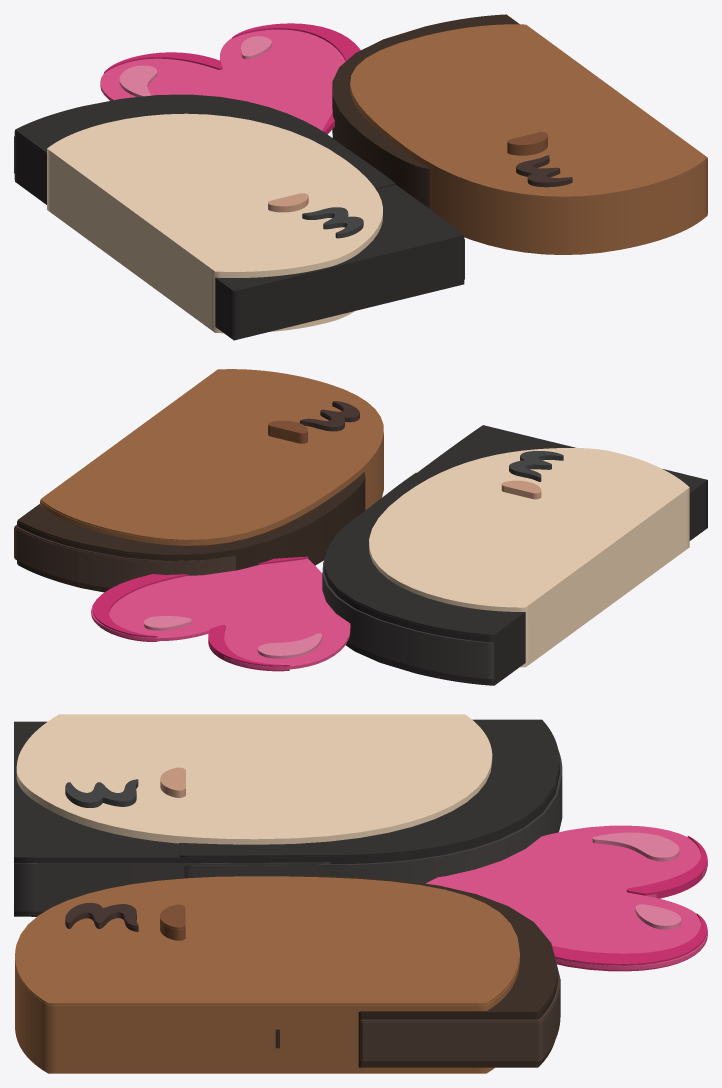
Rendered from emoji_u1f469_1f3fb_200d_2764_200d_1f48b_200d_1f468_1f3fe.glb.
The picture shows the model from 3 angles, top to bottom: view 1: azimuth 30°, elevation 25°; view 2: azimuth 150°, elevation 25°; view 3: azimuth 270°, elevation 25°; orthographic projection. The views are drawn at different scales.
Visible parts, largest first — view 1: emoji_u1f469_1f3fb_200d_2764_200d_1f48b_200d_1f468_1f3fe; view 2: emoji_u1f469_1f3fb_200d_2764_200d_1f48b_200d_1f468_1f3fe; view 3: emoji_u1f469_1f3fb_200d_2764_200d_1f48b_200d_1f468_1f3fe.
Boxes of the visible parts, x1=… form: emoji_u1f469_1f3fb_200d_2764_200d_1f48b_200d_1f468_1f3fe: x1=14, y1=14, x2=707, y2=340; emoji_u1f469_1f3fb_200d_2764_200d_1f48b_200d_1f468_1f3fe: x1=14, y1=369, x2=707, y2=685; emoji_u1f469_1f3fb_200d_2764_200d_1f48b_200d_1f468_1f3fe: x1=14, y1=714, x2=707, y2=1073.
Size of the model in its own units: 0.0336 by 0.0052 by 0.034.
